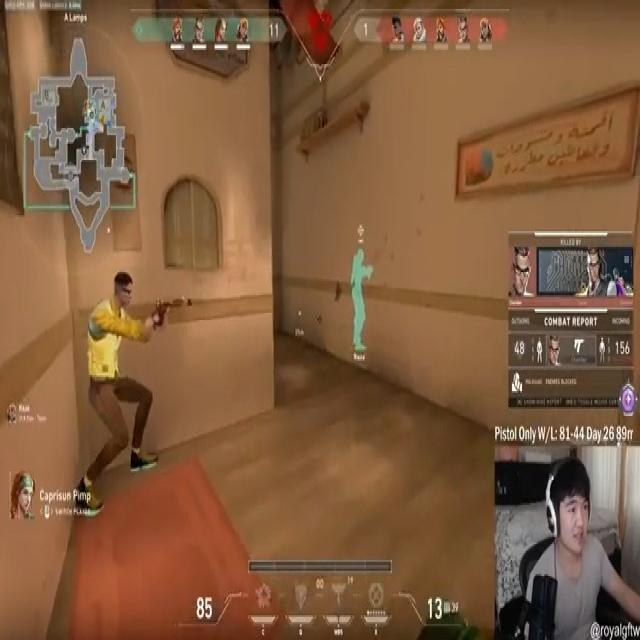ally: (75, 268, 191, 522)
ally behind wall: (347, 238, 376, 362)
